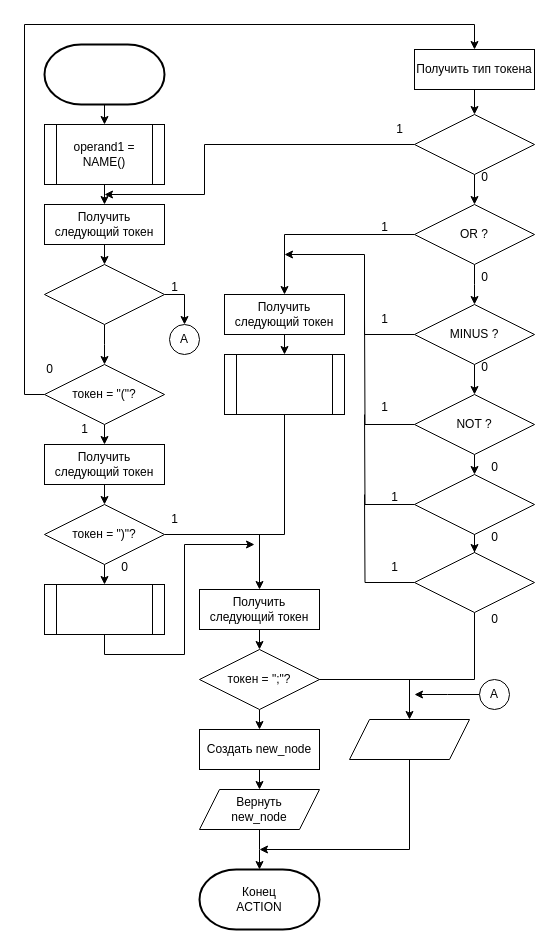
The diagram is 552 pixels wide and 948 high, and some of its shapes have lost their labels. Each missing label, with the box of its shape:
ASSGN ?: (414, 114, 534, 174)
operand2 = VALUE(): (224, 354, 344, 414)
param_node = PARAMETR(): (44, 584, 164, 634)
PLUS ?: (414, 474, 534, 534)
SHIFT ?: (414, 552, 534, 612)
Выдать ошибку: (348, 718, 470, 760)
Начало ACTION: (43, 43, 165, 105)
токен != ";"?: (44, 264, 164, 324)
